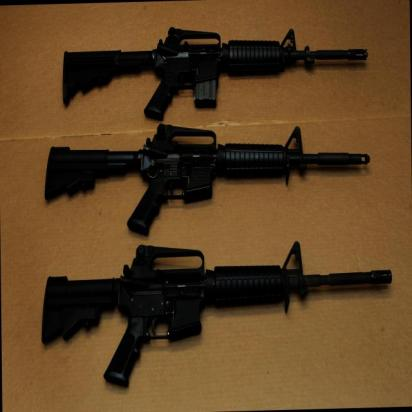Gun: (33, 244, 393, 397), (38, 122, 370, 248), (55, 26, 371, 128)
